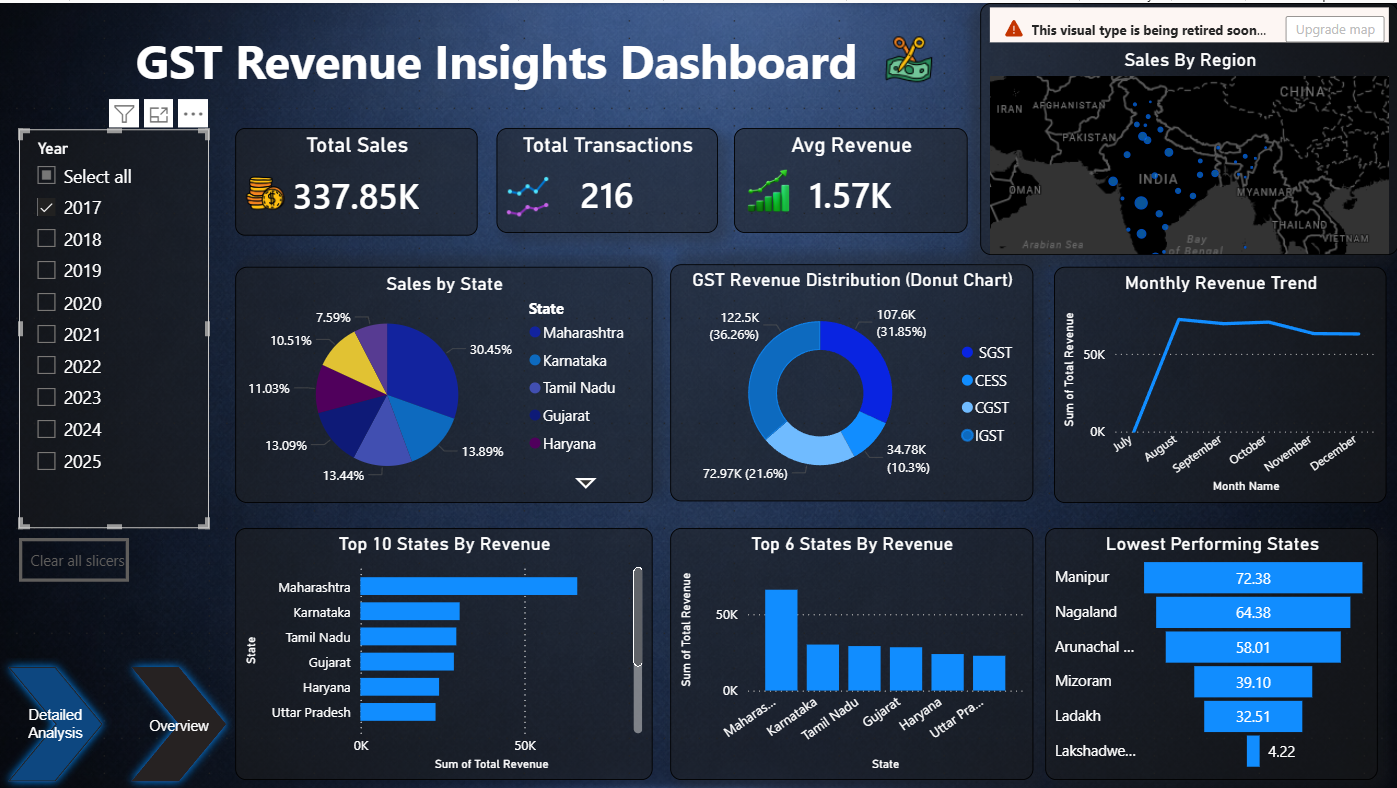

Layout of this report page (visuals, bound fields, positions):
{"tool":"powerbi","page":{"name":"Duplicate of Page 1","canvas":[1280,720],"ordinal":1},"visuals":[{"type":"cardVisual","title":"Total Sales","fields":{"Data":["tarungupta0927_17753816837849605.Total Sales"]},"box":[215.7,113.8,221.6,98.4],"z":0},{"type":"cardVisual","title":"Total Transactions","fields":{"Data":["tarungupta0927_17753816837849605.Total Transactions"]},"box":[454.9,114.3,202.3,96],"z":1000},{"type":"cardVisual","title":"Avg Revenue","fields":{"Data":["tarungupta0927_17753816837849605.Avg Revenue"]},"box":[672,114.3,213.7,96],"z":2000},{"type":"slicer","fields":{"Values":["tarungupta0927_17753816837849605.Year"]},"box":[18.3,115.4,173.7,364.6],"z":3000},{"type":"pieChart","title":"Sales by State","fields":{"Category":["tarungupta0927_17753816837849605.State"],"Y":["Sum(tarungupta0927_17753816837849605.Total Revenue)"]},"box":[215.7,240.6,381.5,215.7],"z":4000},{"type":"donutChart","title":"GST Revenue Distribution (Donut Chart)","fields":{"Y":["Sum(tarungupta0927_17753816837849605.SGST Revenue)","Sum(tarungupta0927_17753816837849605.Cess Revenue)","Sum(tarungupta0927_17753816837849605.CGST Revenue)","Sum(tarungupta0927_17753816837849605.IGST Revenue)"]},"box":[613.4,239.4,331.6,216.9],"z":5000},{"type":"map","title":"Sales By Region","fields":{"Category":["tarungupta0927_17753816837849605.State"],"Size":["Sum(tarungupta0927_17753816837849605.Total Revenue)"]},"box":[897.7,0,382.8,230.6],"z":6000},{"type":"clusteredBarChart","title":"Top 10 States By Revenue","fields":{"Category":["tarungupta0927_17753816837849605.State"],"Y":["Sum(tarungupta0927_17753816837849605.Total Revenue)"]},"box":[215.7,480,381.5,230.6],"z":7000},{"type":"clusteredColumnChart","title":"Top 6 States By Revenue","fields":{"Category":["tarungupta0927_17753816837849605.State"],"Y":["Sum(tarungupta0927_17753816837849605.Total Revenue)"]},"box":[613.4,480,331.6,230.6],"z":8000},{"type":"funnel","title":"Lowest Performing States","fields":{"Category":["tarungupta0927_17753816837849605.State"],"Y":["Sum(tarungupta0927_17753816837849605.Total Revenue)"]},"box":[956.3,480,304.2,230.6],"z":9000},{"type":"textbox","box":[51.5,18.1,807,66.8],"z":10000},{"type":"image","box":[224,146.3,38.9,53.7],"z":11000},{"type":"image","box":[681.1,146.3,44.6,51.4],"z":12000},{"type":"image","box":[454.9,154.3,57.1,45.7],"z":13000},{"type":"image","box":[788.6,26.3,86.9,50.3],"z":14000},{"type":"lineChart","title":"Monthly Revenue Trend","fields":{"Category":["tarungupta0927_17753816837849605.Month Name"],"Y":["Sum(tarungupta0927_17753816837849605.Total Revenue)"]},"box":[965,240.6,304.2,215.7],"z":14001},{"type":"bookmarkNavigator","box":[0,598.9,556.6,121.1],"z":14002},{"type":"actionButton","box":[18.3,489.1,100.6,40],"z":14003}]}

Visuals, with their boxes in screenshot pixels (x1, y1, x2, y2), scaled from the page's 1280x720 canvas onto the 1397x788 screenshot:
"Total Sales" cardVisual: 235 125 477 232
"Total Transactions" cardVisual: 496 125 717 230
"Avg Revenue" cardVisual: 733 125 967 230
slicer - tarungupta0927_17753816837849605.Year: 20 126 210 525
"Sales by State" pieChart: 235 263 652 499
"GST Revenue Distribution (Donut Chart)" donutChart: 669 262 1031 499
"Sales By Region" map: 980 0 1396 252
"Top 10 States By Revenue" clusteredBarChart: 235 525 652 778
"Top 6 States By Revenue" clusteredColumnChart: 669 525 1031 778
"Lowest Performing States" funnel: 1044 525 1376 778
textbox: 56 20 937 93
image: 244 160 287 219
image: 743 160 792 216
image: 496 169 559 219
image: 861 29 956 84
"Monthly Revenue Trend" lineChart: 1053 263 1385 499
bookmarkNavigator: 0 655 607 787
actionButton: 20 535 130 579
